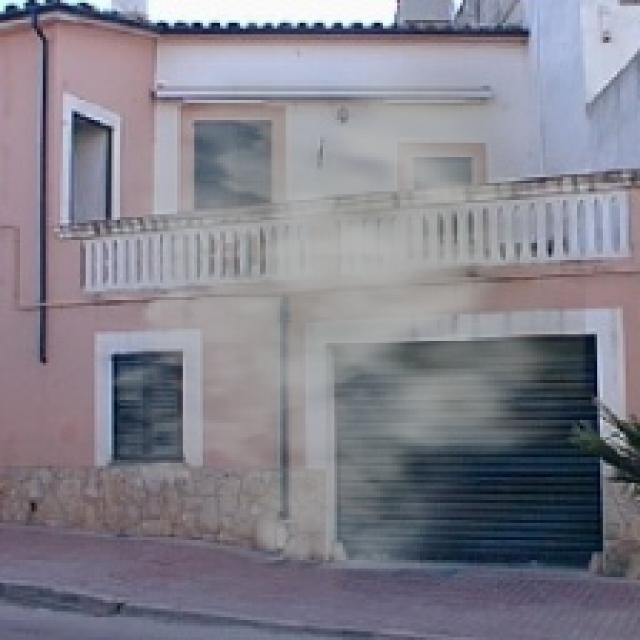smoke: (46, 37, 586, 569)
